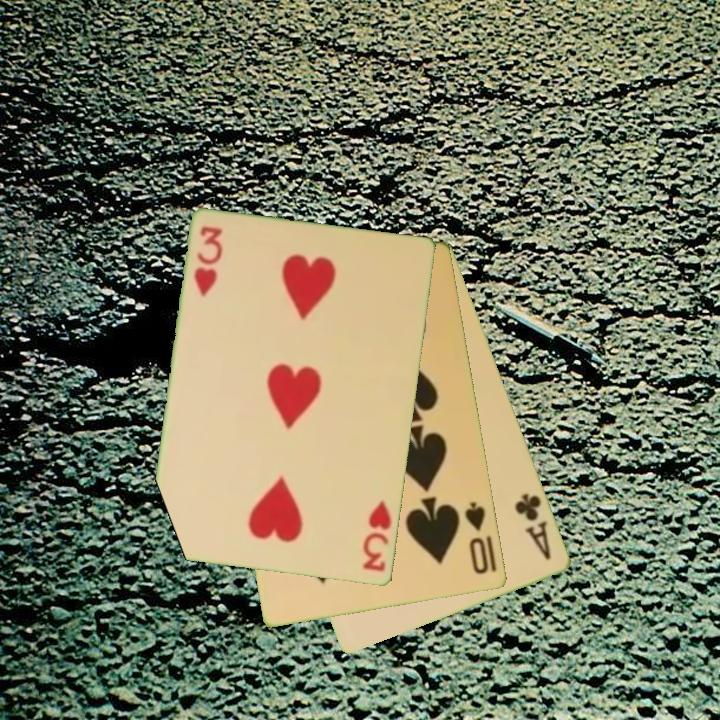10s: (462, 498, 500, 578)
3h: (359, 497, 395, 575), (190, 223, 226, 300)
Ac: (511, 490, 555, 563)
